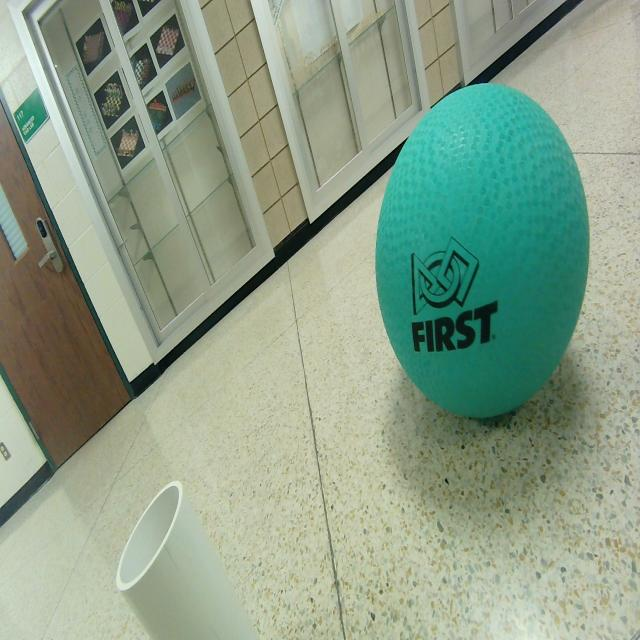algae: (376, 84, 589, 419)
coral: (116, 480, 259, 640)
